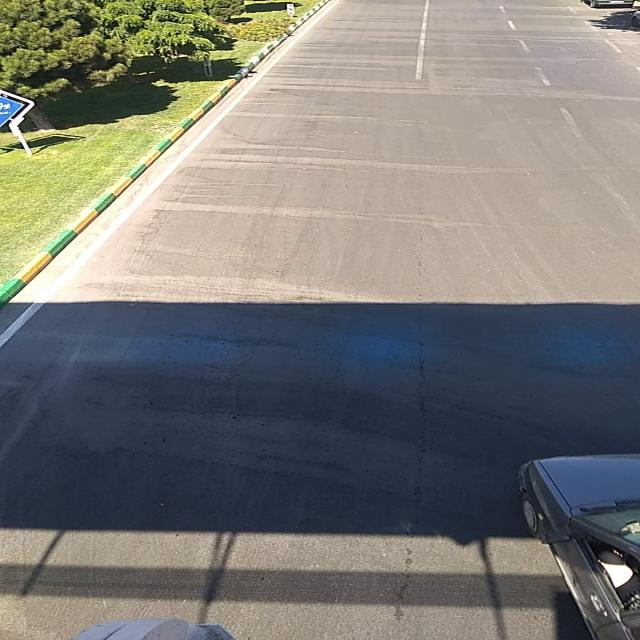car: (512, 458, 636, 640)
